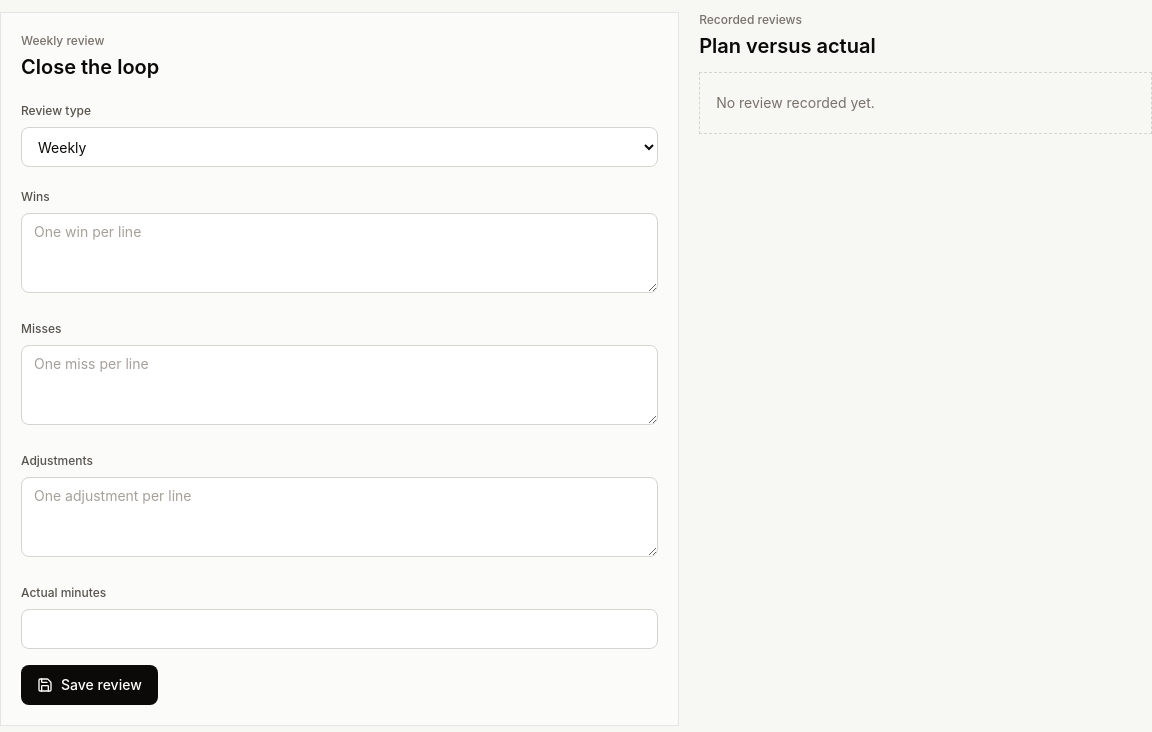
ReviewWorkspace › loads the current period and saves a review
Expected: the heading "Close the loop" is shown, [21,55,159,79]
Type "Shipped a slice" into the text box labelled "Wins".
click(340, 253); type("Shipped a slice")  # box [21,213,658,293]
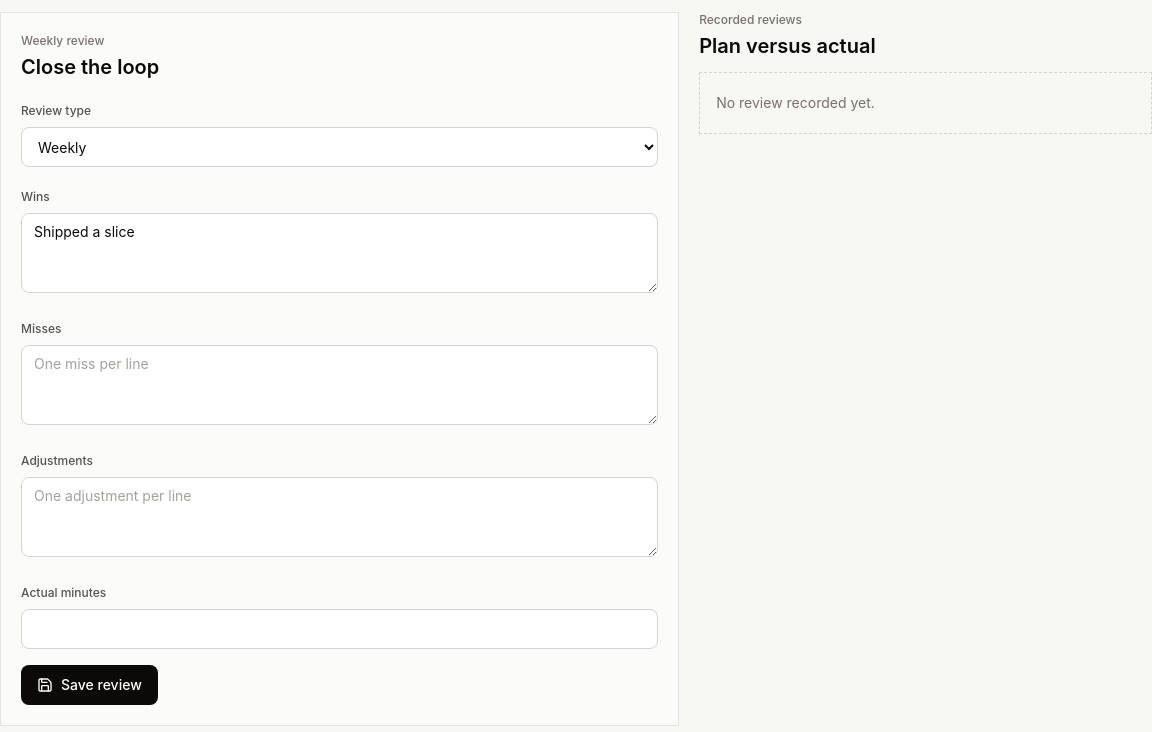
Type "45" into the number field labelled "Actual minutes".
click(340, 629); type("45")  # box [21,609,658,649]
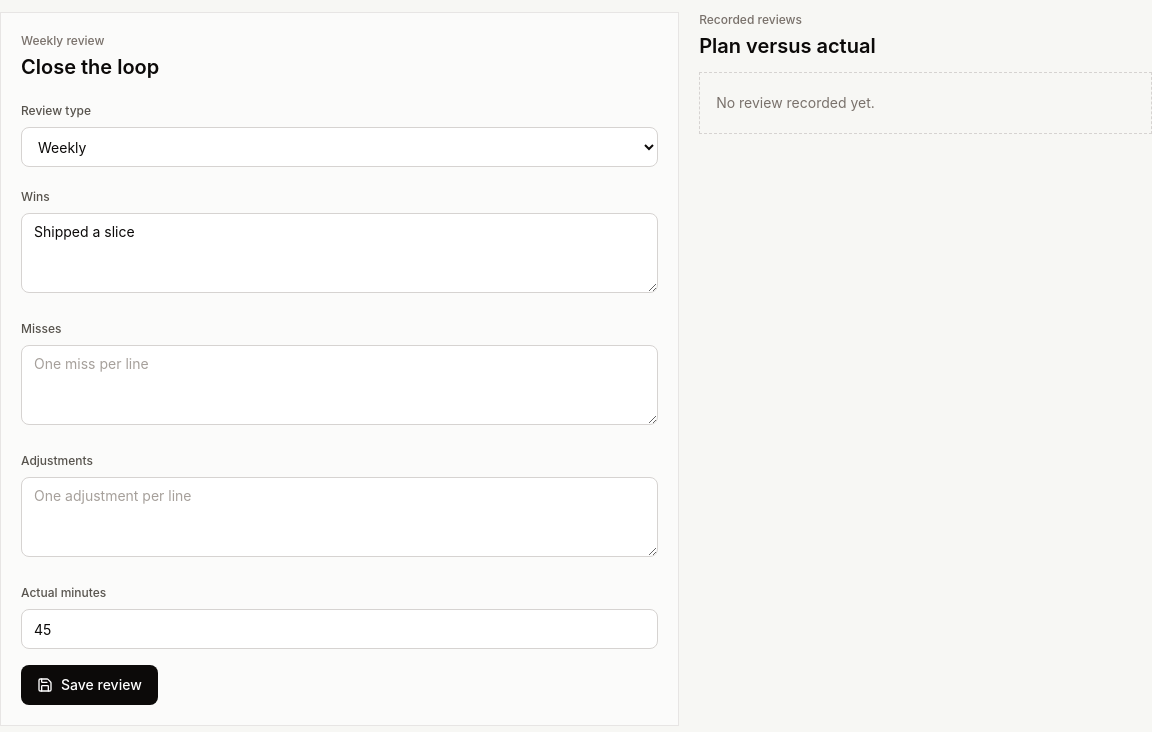
Click the button "Save review".
click(89, 685)  # box [21,665,158,705]
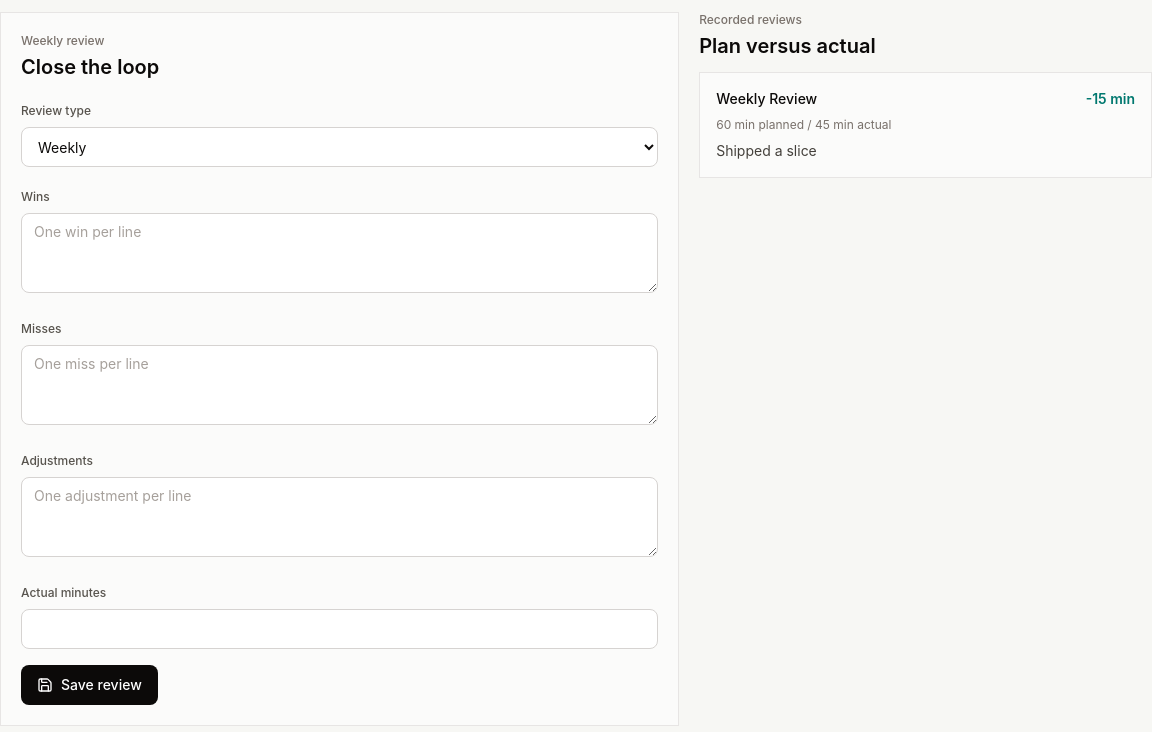
Expected: the text box "Shipped a slice" is shown, [21,213,658,293]
Result: the text "-15 min" is shown at [1086,89,1135,109]
